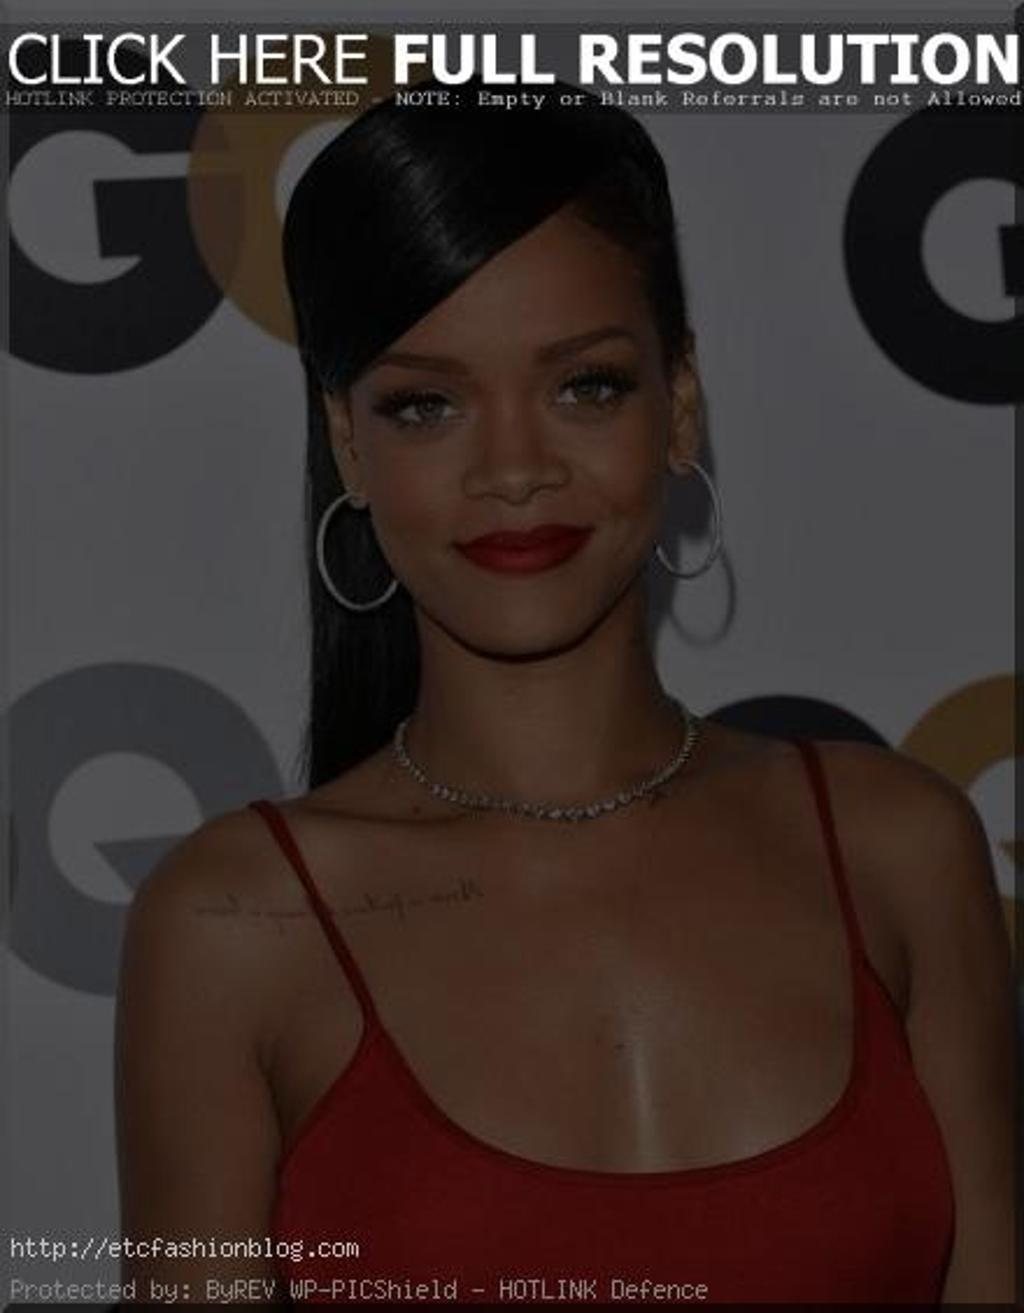face: (350, 199, 673, 653)
